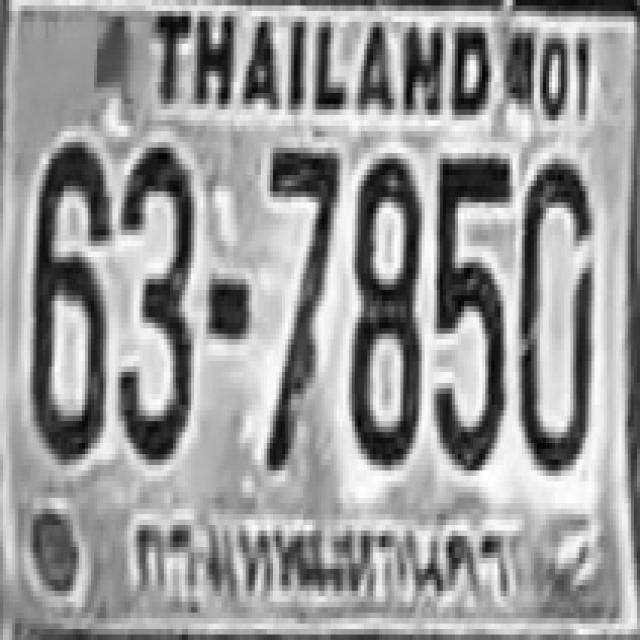0: (517, 153, 593, 471)
3: (115, 142, 191, 454)
5: (432, 156, 508, 468)
6: (30, 137, 106, 454)
7: (266, 140, 338, 468)
8: (348, 153, 418, 460)
Bangkok: (123, 500, 521, 619)
